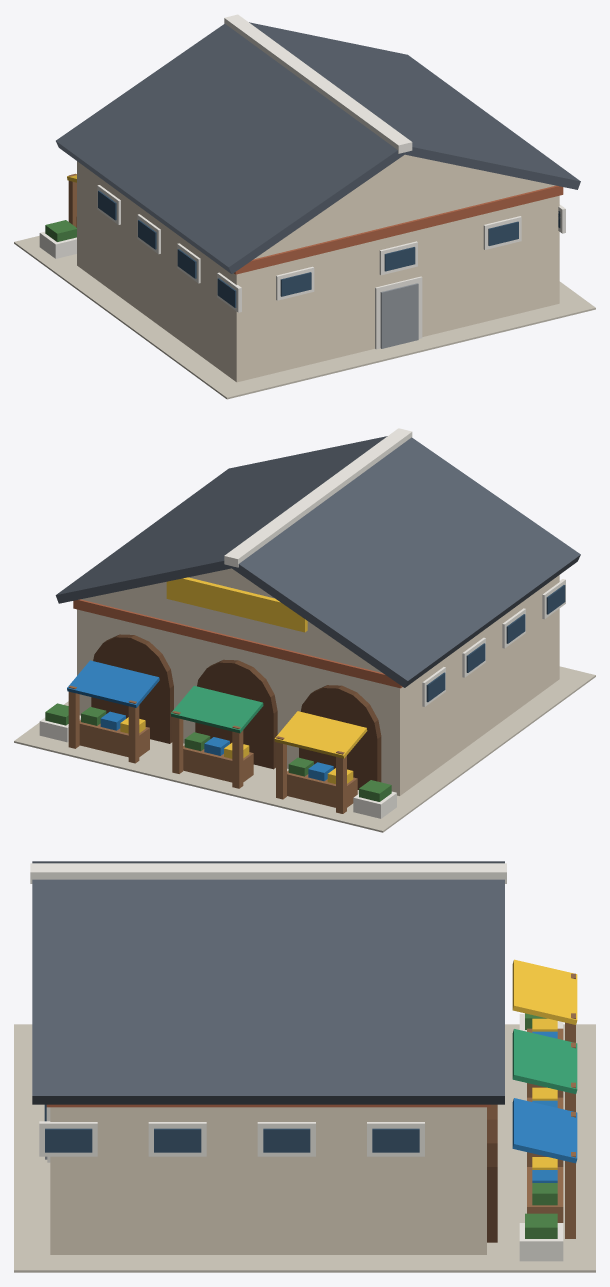
The picture shows the model from 3 angles, top to bottom: view 1: azimuth 30°, elevation 25°; view 2: azimuth 150°, elevation 25°; view 3: azimuth 270°, elevation 25°; orthographic projection. The views are drawn at different scales.
Parts seen in each view (by area): view 1: roof (×2), hall, ground, gable, string_course, ridge, garage_door, window_glass (×3), garage_door_frame, planter, planter_hedge; view 2: roof (×2), hall, market_bay (×3), ground, stall_awning (×3), gable, stall (×3), stall_post (×6), string_course, sign, ridge, planter (×2) (+1 smaller); view 3: roof (×2), hall, ground, stall_awning (×3), ridge, window_glass (×4), window_frame (×4), string_course, market_bay, planter, stall, stall_post (+2 smaller).
Part boxes in pixels (x1,y1,x2,y2): roof (×2): (56, 22, 580, 273); hall: (77, 161, 559, 382); ground: (14, 235, 595, 399); gable: (258, 154, 551, 256); string_course: (234, 185, 563, 274); ridge: (224, 14, 412, 153); garage_door: (380, 283, 418, 348); window_glass (×3): (280, 221, 518, 296); garage_door_frame: (375, 276, 422, 349); planter: (39, 231, 76, 258); planter_hedge: (45, 220, 76, 241); roof (×2): (55, 436, 580, 687); hall: (77, 575, 559, 795); market_bay (×3): (91, 634, 381, 789); ground: (14, 666, 595, 832); stall_awning (×3): (67, 660, 367, 758); gable: (85, 568, 378, 670); stall (×3): (79, 720, 357, 807); stall_post (×6): (68, 685, 346, 813); string_course: (73, 599, 402, 688); sign: (166, 577, 307, 632); ridge: (224, 428, 412, 567); planter (×2): (39, 715, 396, 818); roof (×2): (32, 861, 504, 1104); hall: (50, 1107, 486, 1254); ground: (14, 1024, 595, 1272); stall_awning (×3): (512, 959, 577, 1163); ridge: (30, 863, 506, 883); window_glass (×4): (45, 1128, 419, 1152); window_frame (×4): (39, 1121, 424, 1156); string_course: (46, 1104, 490, 1107); market_bay: (487, 1104, 497, 1242); planter: (519, 1223, 563, 1261); stall: (527, 1167, 563, 1222); stall_post: (565, 1152, 575, 1238).
Size of the model in its own units: 16 by 8.55 by 16.
